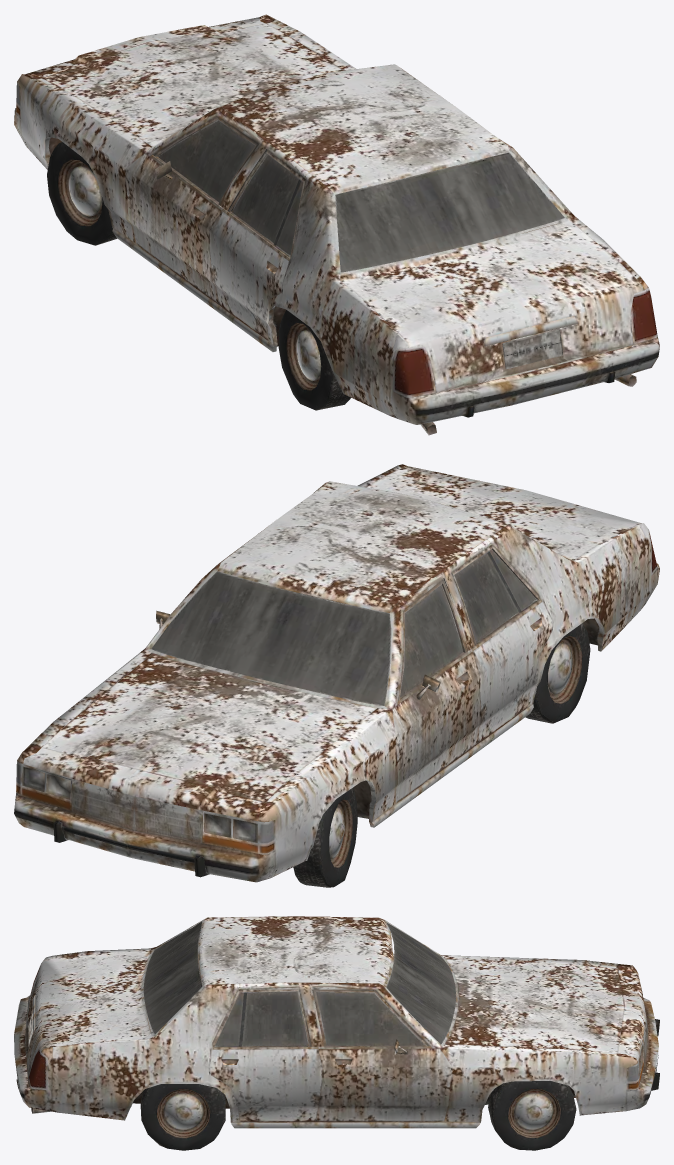
Rendered from sedan_a_red_mossy.glb.
3 views of the same model, one above another, from view 1: azimuth 30°, elevation 25°; view 2: azimuth 150°, elevation 25°; view 3: azimuth 270°, elevation 25° (orthographic). The views are drawn at different scales.
Parts seen in each view (by area): view 1: sedan_a_LOD0; view 2: sedan_a_LOD0; view 3: sedan_a_LOD0.
Boxes of the visible parts, box(x1,y1,x2,y2) form: sedan_a_LOD0: box(14, 14, 659, 435); sedan_a_LOD0: box(14, 464, 659, 887); sedan_a_LOD0: box(14, 916, 659, 1150).
Size of the model in its own units: 2.44 by 1.65 by 6.2.
Materials: 2 (2 with a texture image).
